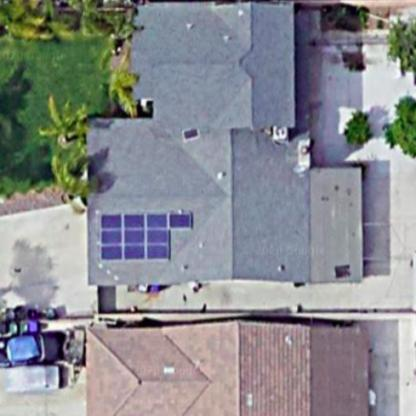car: (1, 324, 71, 373)
solar_panel: (93, 204, 206, 267)
